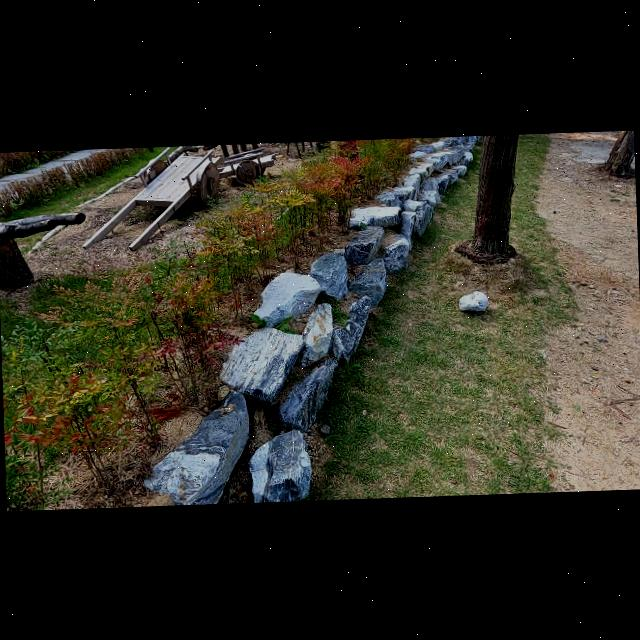trash: (458, 288, 489, 312)
